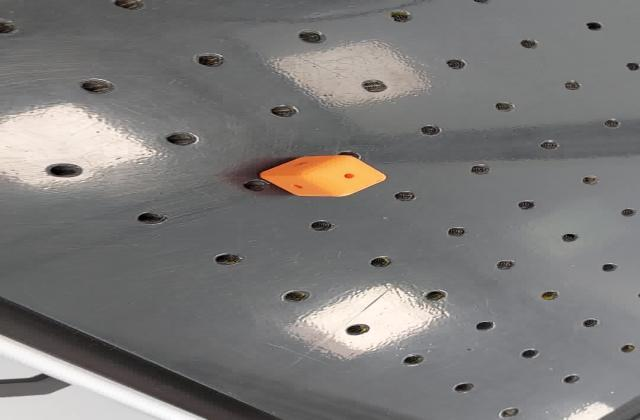cube: (248, 154, 392, 199)
